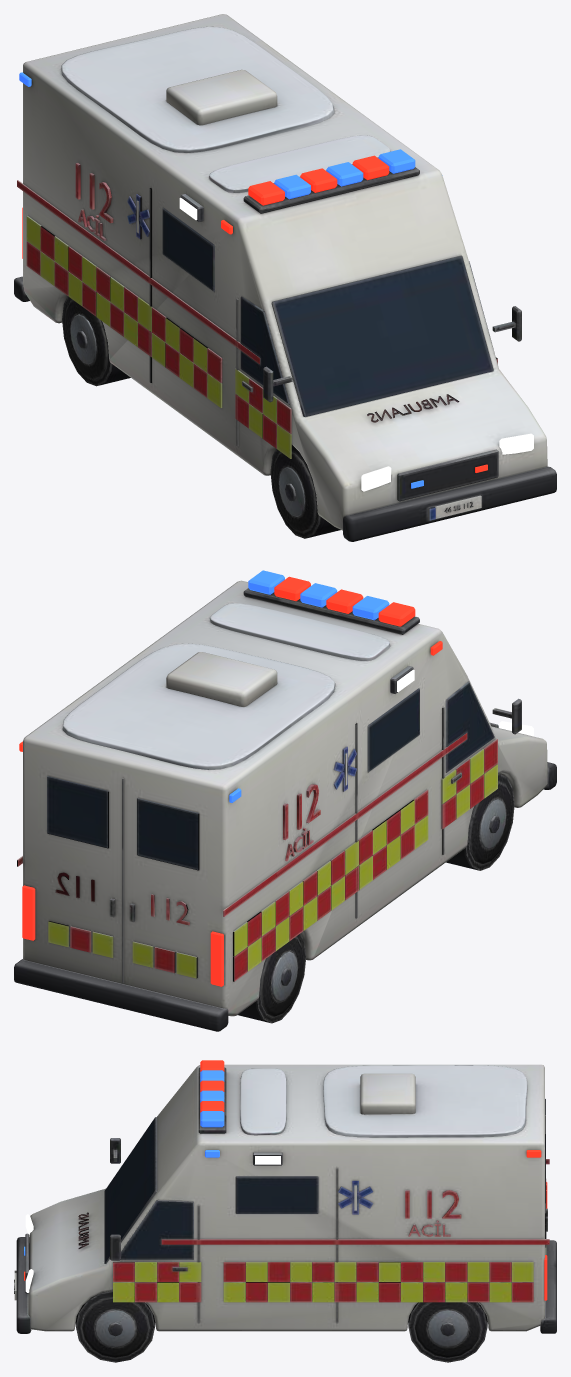
File: ambulance.glb
3 renders of one model, top to bottom at view 1: azimuth 30°, elevation 25°; view 2: azimuth 150°, elevation 25°; view 3: azimuth 270°, elevation 25°, orthographic. The views are drawn at different scales.
Parts seen in each view (by area): view 1: ambulance, ambulance_glow; view 2: ambulance, ambulance_glow; view 3: ambulance, ambulance_glow.
Boxes of the visible parts, x1,y1,x2,y2 form: ambulance: (14,14,556,541); ambulance_glow: (19,72,533,491); ambulance: (14,580,556,1031); ambulance_glow: (19,570,533,986); ambulance: (14,1064,556,1362); ambulance_glow: (24,1060,547,1300).
Bounding box in the file's own units: 2.53 × 2.83 × 5.88.
Materials: 6 (1 with a texture image).
